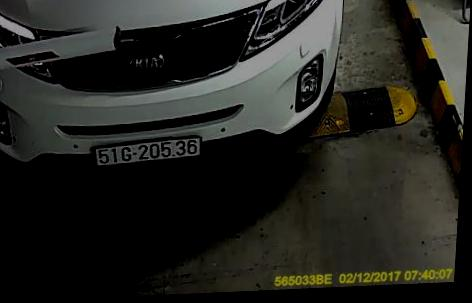License_Plate: (94, 135, 206, 166)
